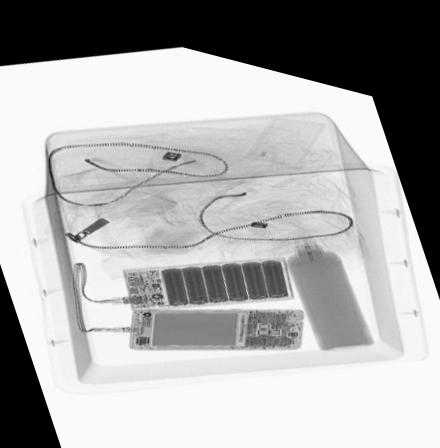Powerbank: (116, 243, 293, 307)
